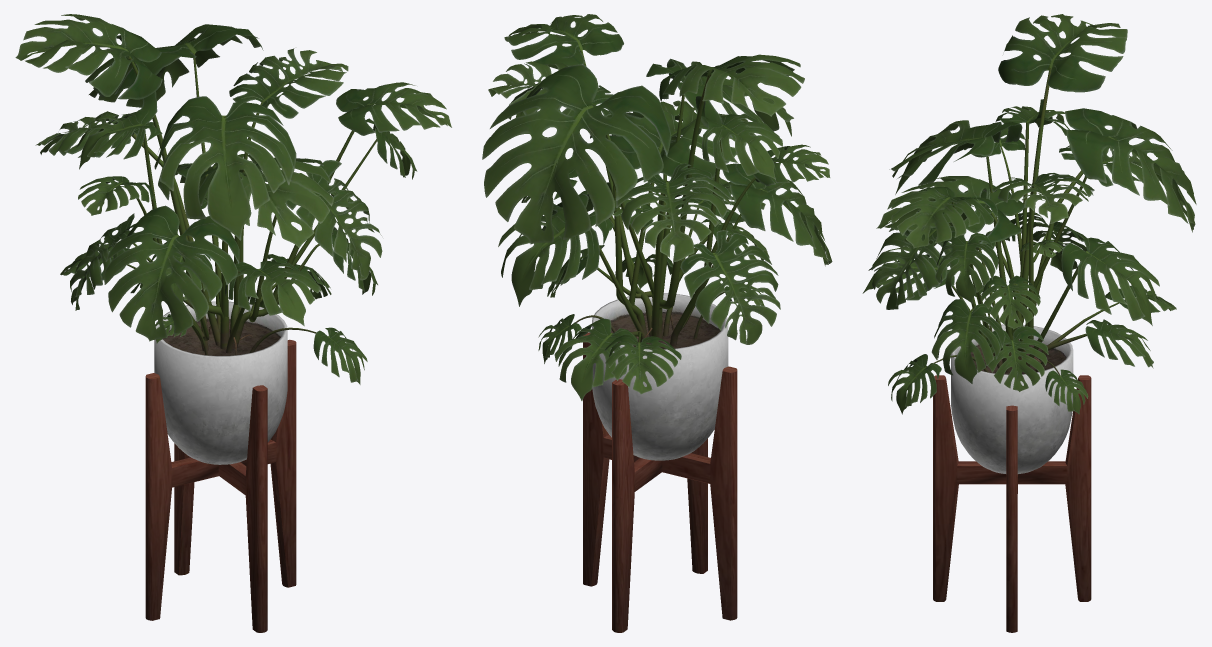
File: plant_monstera.glb
3 views of the same model, side by side, from view 1: azimuth 30°, elevation 25°; view 2: azimuth 150°, elevation 25°; view 3: azimuth 270°, elevation 25° (orthographic). The views are drawn at different scales.
Parts seen in each view (by area): view 1: Leaves_Mat.1_0, Stand_Mat_0, root_HP_1_Mat.2_0; view 2: Leaves_Mat.1_0, Stand_Mat_0, root_HP_1_Mat.2_0; view 3: Leaves_Mat.1_0, Stand_Mat_0, root_HP_1_Mat.2_0.
Part boxes in pixels (left/top/right/bottom): Leaves_Mat.1_0: left=15, top=14, right=451, bottom=384; Stand_Mat_0: left=145, top=301, right=296, bottom=632; root_HP_1_Mat.2_0: left=124, top=53, right=376, bottom=355; Leaves_Mat.1_0: left=482, top=14, right=832, bottom=400; Stand_Mat_0: left=583, top=293, right=737, bottom=632; root_HP_1_Mat.2_0: left=559, top=50, right=755, bottom=346; Leaves_Mat.1_0: left=862, top=14, right=1196, bottom=414; Stand_Mat_0: left=933, top=324, right=1091, bottom=632; root_HP_1_Mat.2_0: left=933, top=68, right=1124, bottom=375.
Bounding box in the file's own units: 0.818 × 1.28 × 0.7442.
3 materials, 3 textured.
